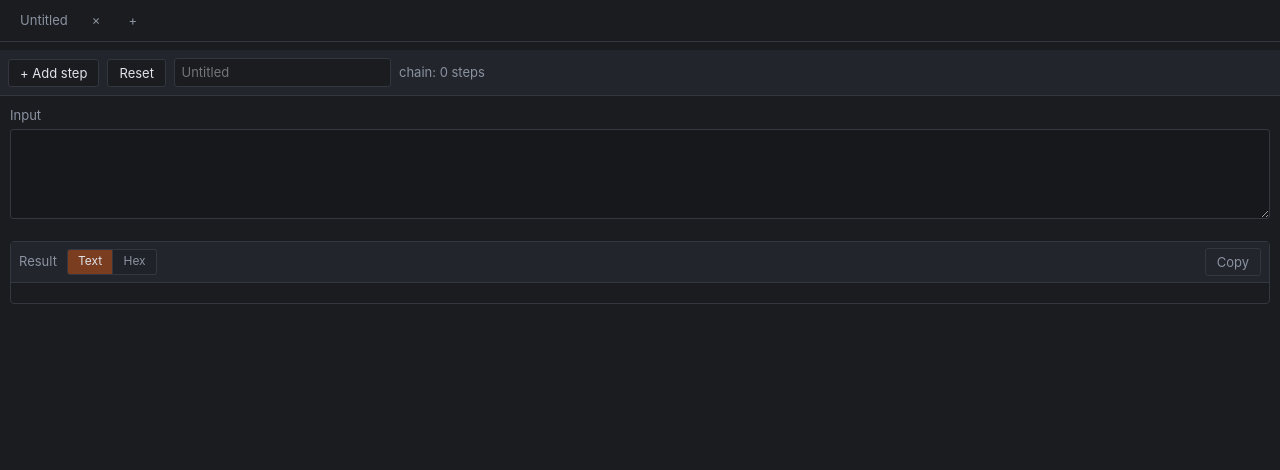
DecoderTab › adds a step and shows its output
This screenshot has width=1280, height=470.
Type "aGk=" into the text box named "decoder input" at (640, 174), box [10,129,1270,219]
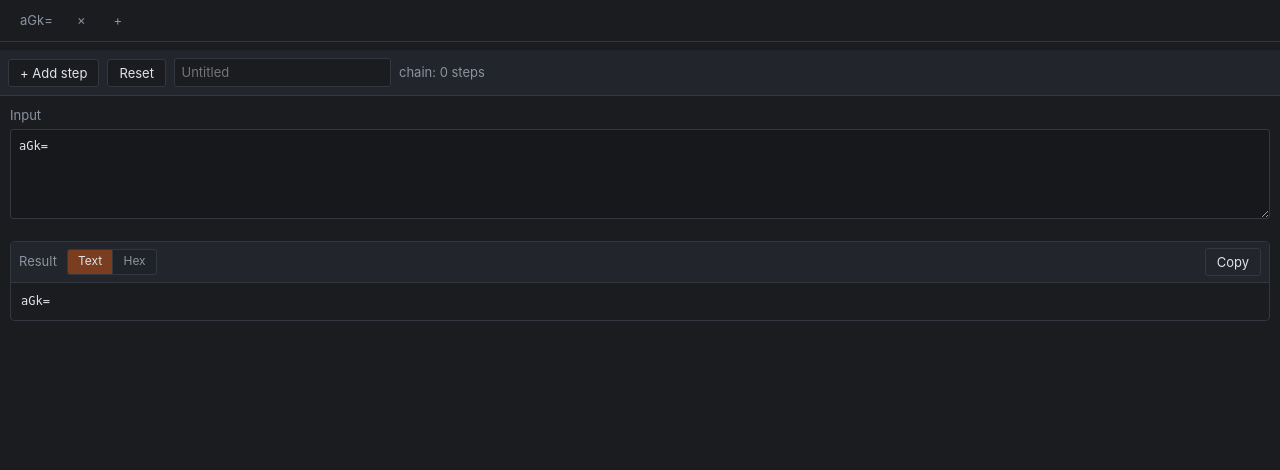
Click the button "+ Add step" at (54, 73), box [8,59,99,87]
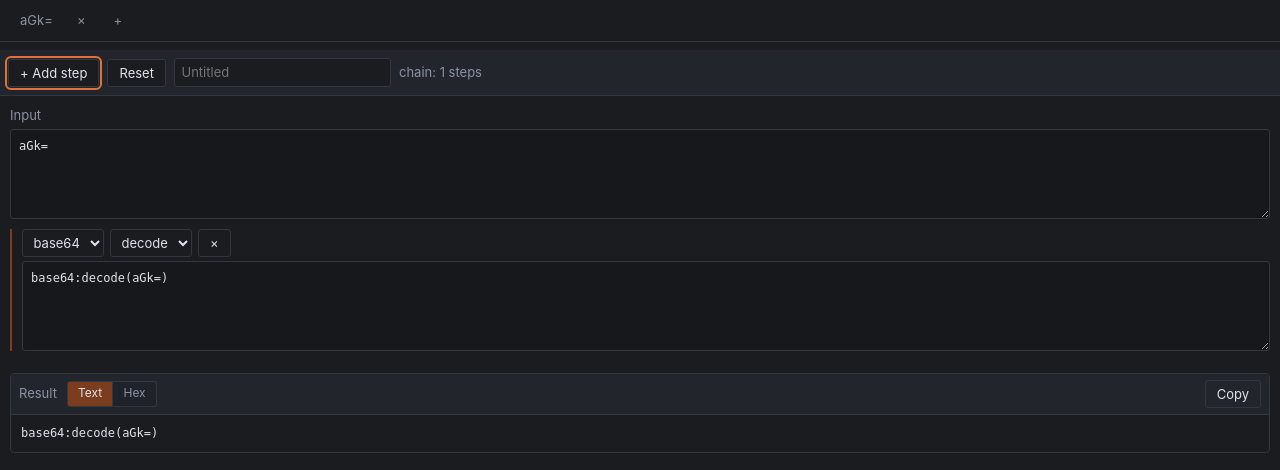
expect the text with class "chain-output" reads "base64:decode(aGk=)": met, box [31,271,168,285]
